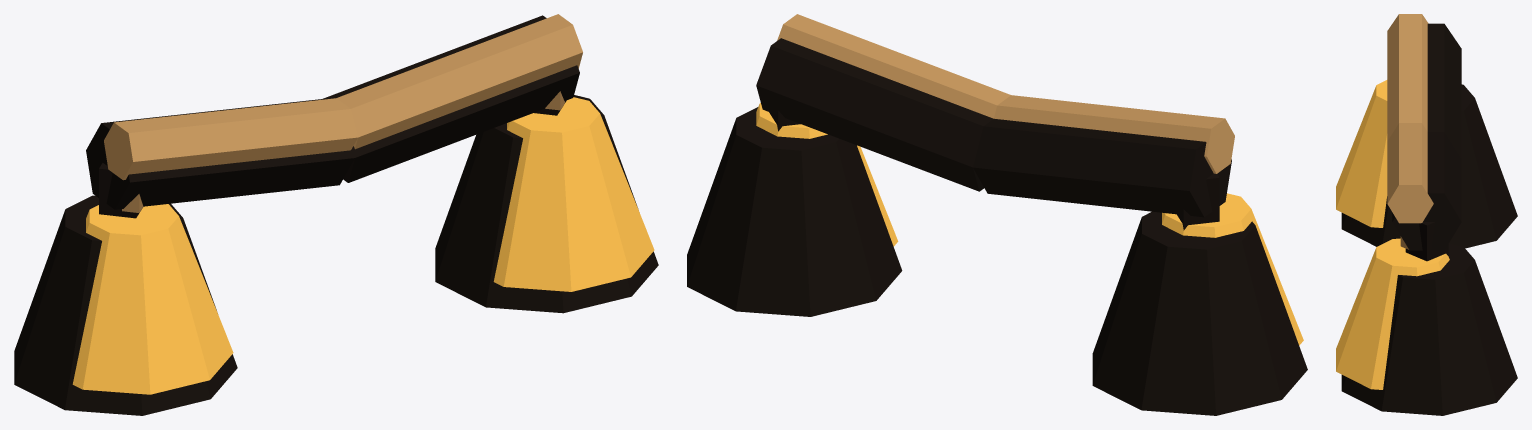
Rendered from fx_mark_slow.glb.
3 renders of one model, left to right at view 1: azimuth 30°, elevation 25°; view 2: azimuth 150°, elevation 25°; view 3: azimuth 270°, elevation 25°, orthographic. The views are drawn at different scales.
Parts seen in each view (by area): view 1: fx_mark_slow; view 2: fx_mark_slow; view 3: fx_mark_slow.
Part boxes in pixels (<box>): fx_mark_slow: <box>14,14,658,415</box>; fx_mark_slow: <box>687,14,1307,415</box>; fx_mark_slow: <box>1336,14,1517,415</box>.
Bounding box in the file's own units: 1.7 × 0.7751 × 0.5505.
